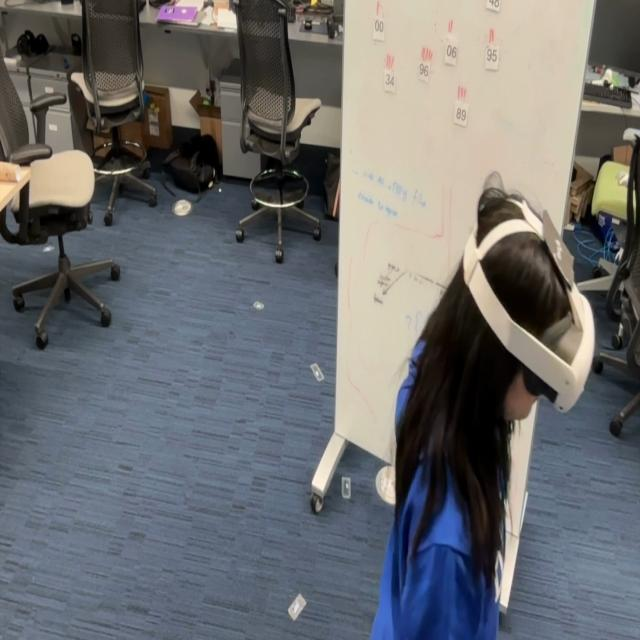Headset: (462, 180, 596, 415)
UnityLogo: (535, 217, 580, 292)
